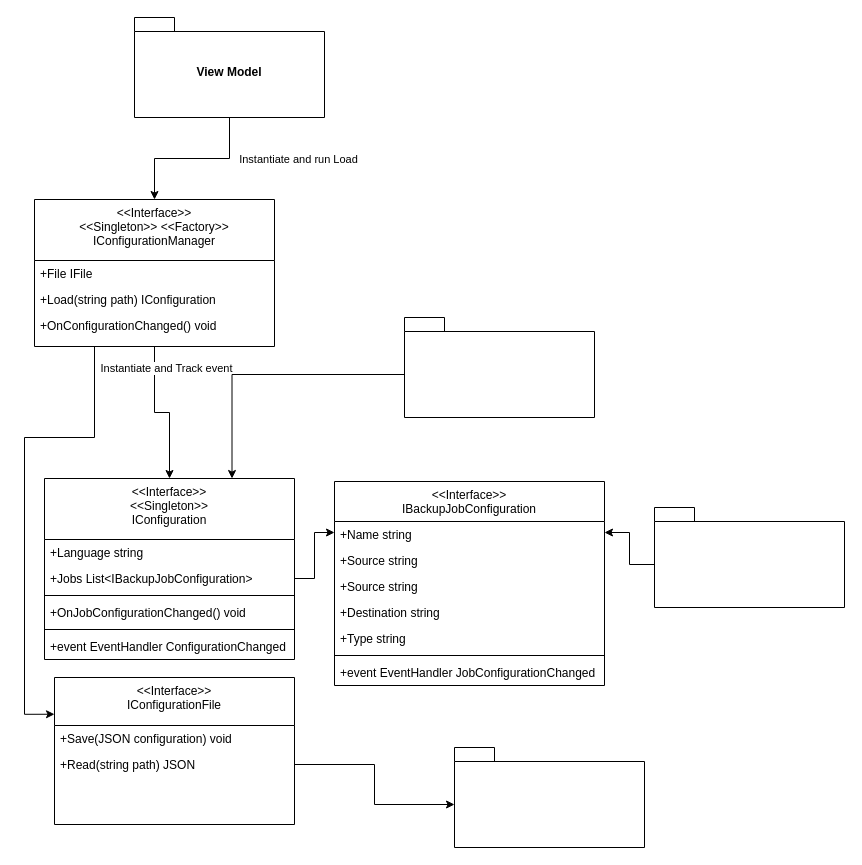
This 862x865 diagram has some shape labels left out. The shapes that lost their labels are listed below. From the top down, each one's centre as x and y in pixels, then its label:
At (x=499, y=367): "Language (Model)".
At (x=749, y=557): "Job (Model)".
At (x=549, y=797): "File Handler".
